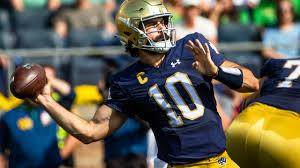americanFootball: (9, 59, 47, 101)
